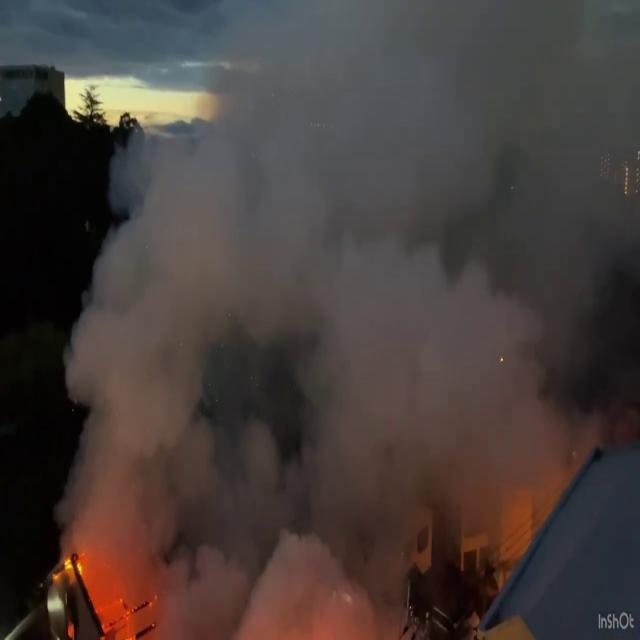Smoke: (48, 1, 636, 622)
